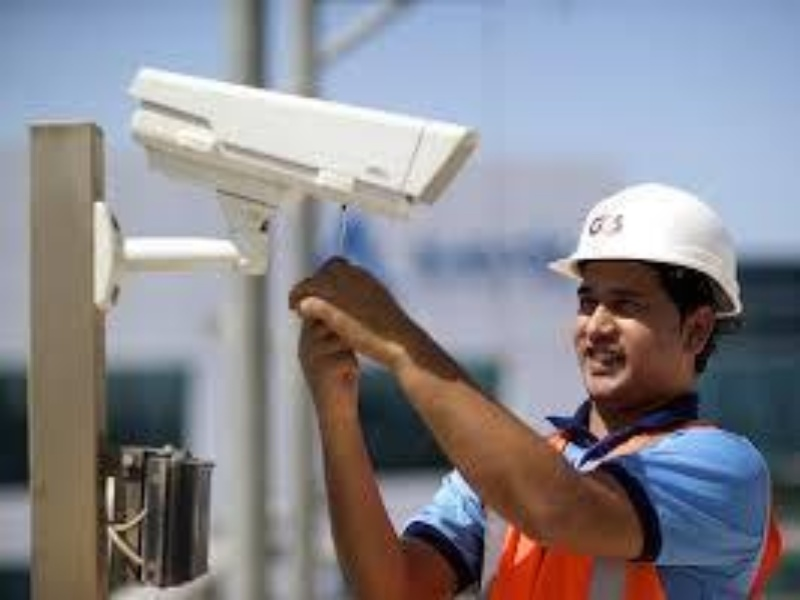helmet: (549, 180, 743, 319)
